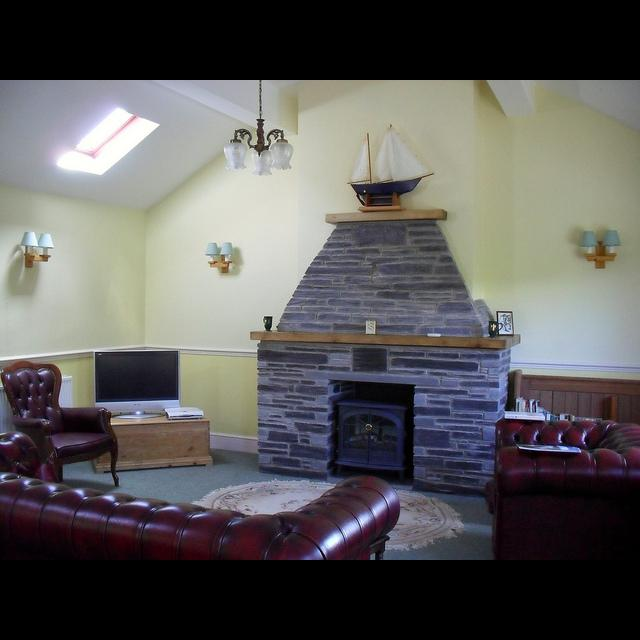Flat-Panel-TV: (94, 348, 181, 420)
